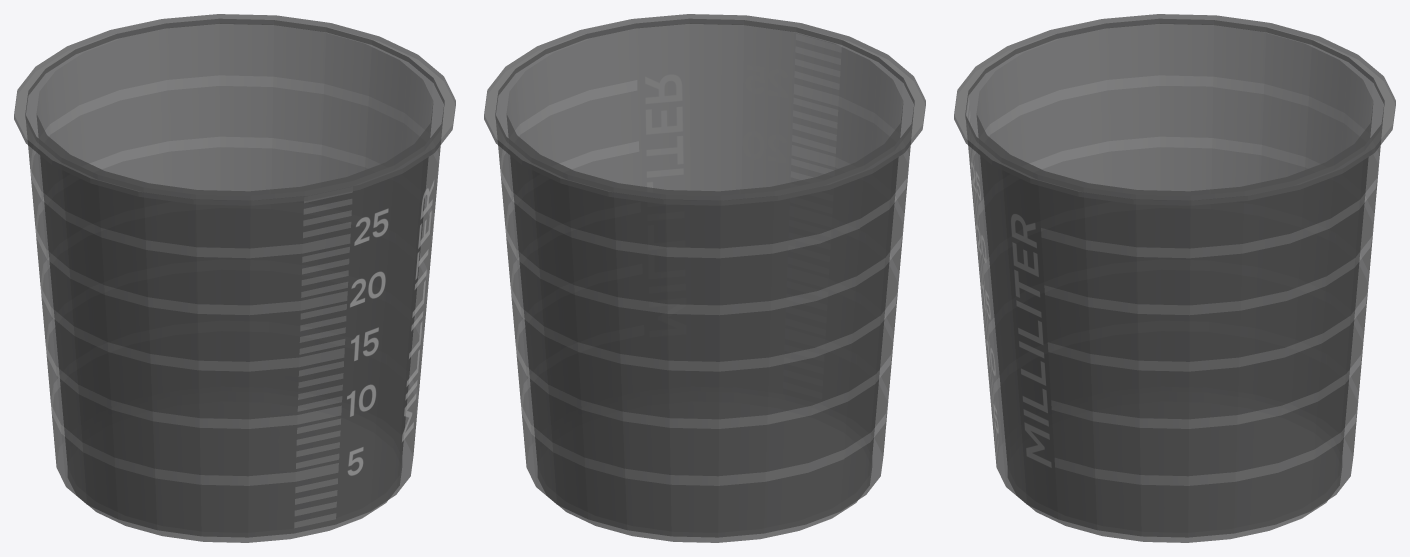
The model's file is medication_cup.glb.
3 renders of one model, left to right at view 1: azimuth 30°, elevation 25°; view 2: azimuth 150°, elevation 25°; view 3: azimuth 270°, elevation 25°, orthographic.
Parts seen in each view (by area): view 1: G-Object; view 2: G-Object; view 3: G-Object.
Boxes of the visible parts, left/top/right/bottom form: G-Object: left=14, top=14, right=455, bottom=542; G-Object: left=484, top=14, right=925, bottom=542; G-Object: left=954, top=14, right=1395, bottom=542.
Size of the model in its own units: 0.079 by 0.072 by 0.079.
Materials: 4 (4 with a texture image).
